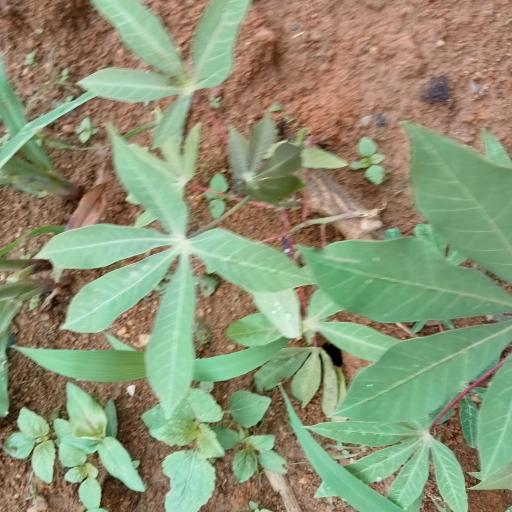Cassava_Mosaic: (54, 136, 298, 396)
